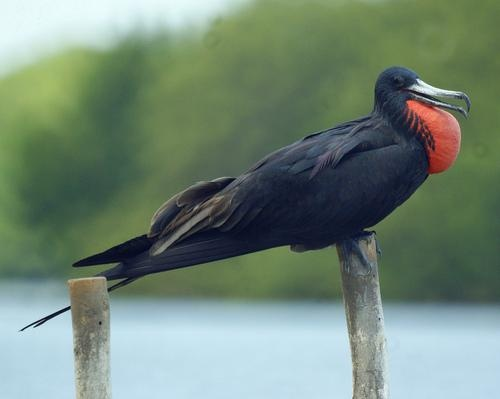bird: (20, 66, 471, 329)
